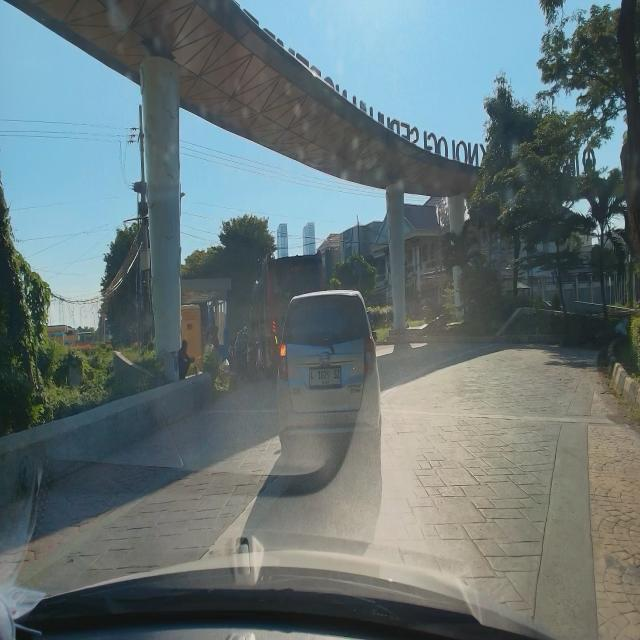car: (273, 288, 385, 466)
license-plate: (308, 365, 344, 390)
